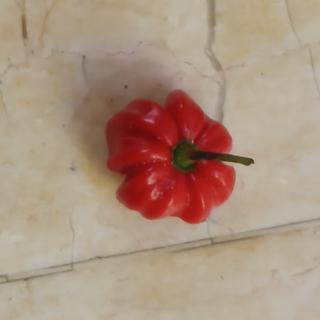Grade-B: (100, 82, 242, 225)
